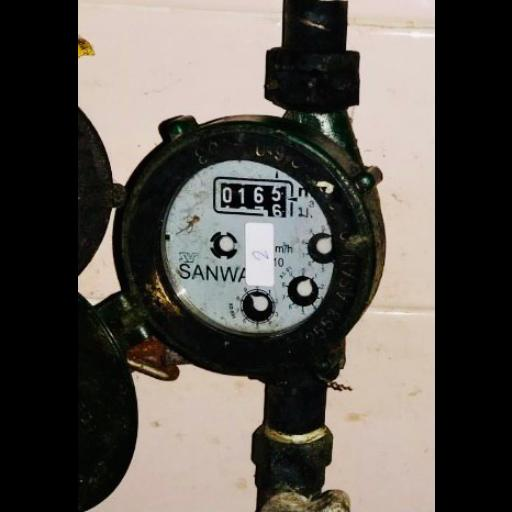0: (218, 183, 233, 209)
1: (234, 183, 249, 209)
5: (267, 185, 286, 217)
6: (248, 185, 268, 210)
border_water_meter_number: (208, 175, 294, 219)
